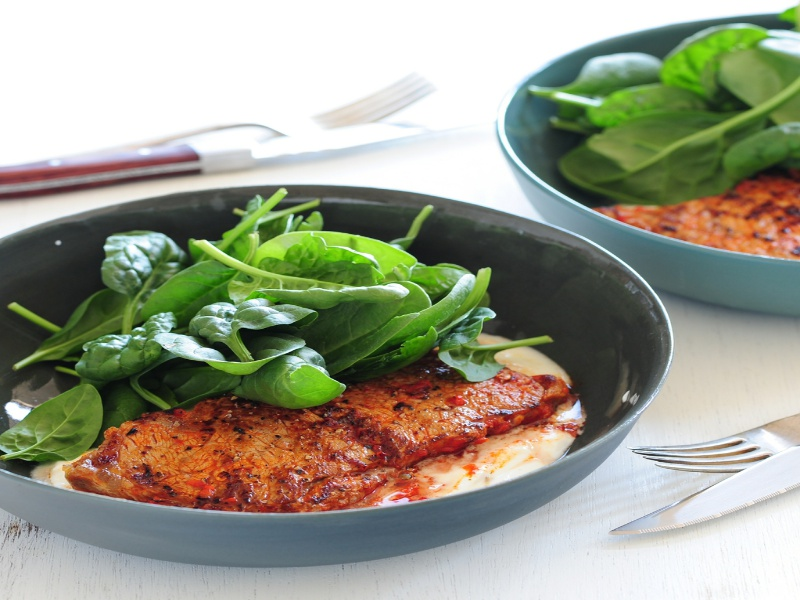knife: (1, 121, 425, 197), (607, 448, 800, 538)
